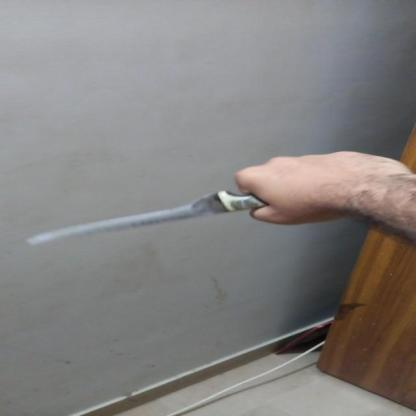Knife: (22, 182, 300, 247)
